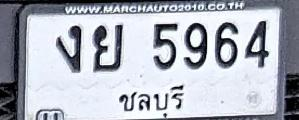4: (244, 20, 268, 68)
5: (153, 23, 178, 70)
6: (215, 21, 238, 68)
9: (184, 22, 206, 69)
A07: (55, 24, 82, 73)
A34: (92, 23, 124, 72)
CBI: (117, 82, 187, 115)
